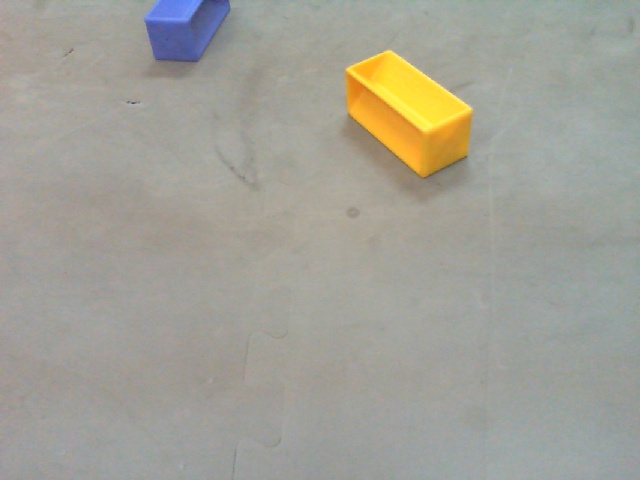BlueSample: (143, 1, 230, 68)
YellowSample: (343, 48, 474, 180)
